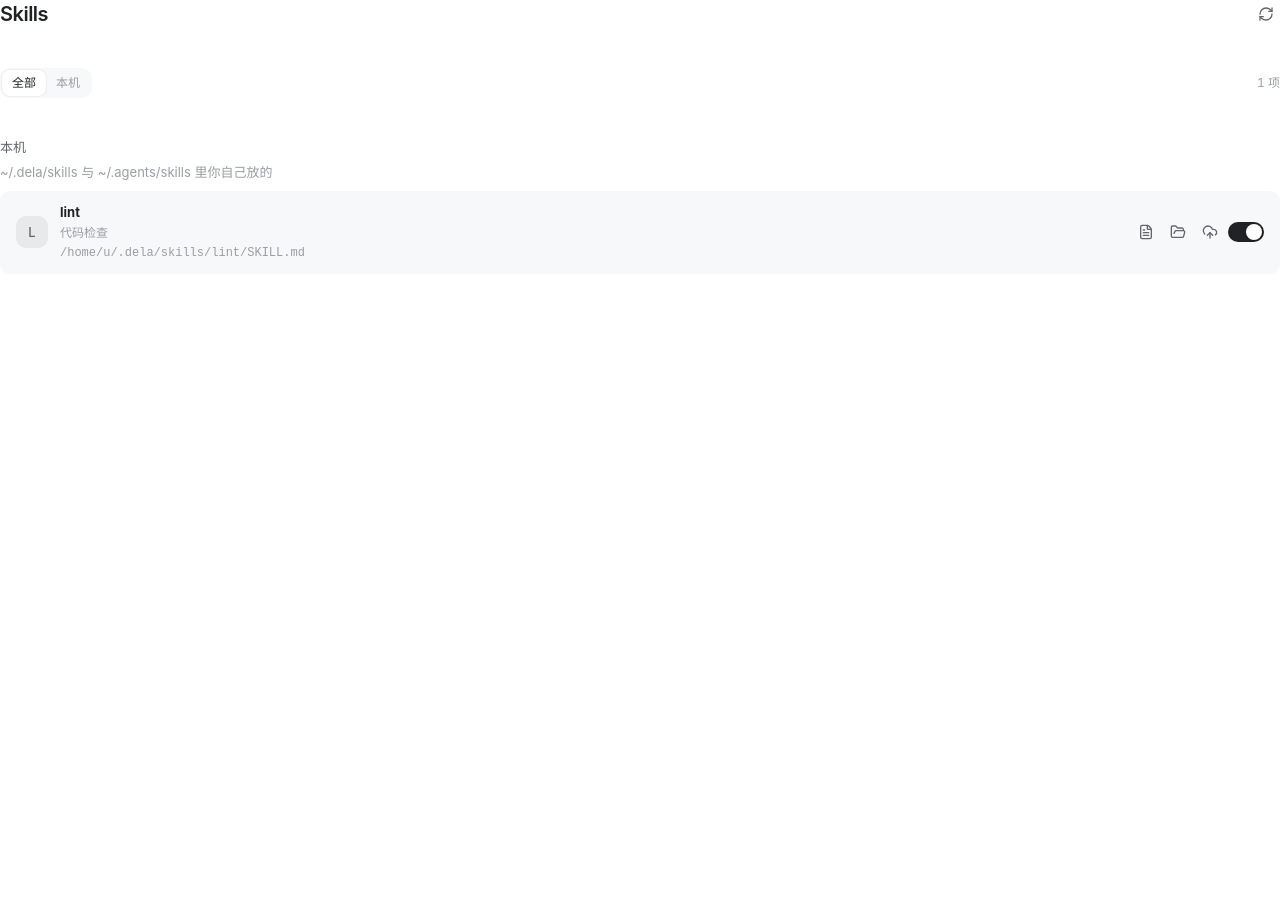
Test: asks for overwrite when the remote skill exists
Click the button named "上传 lint 到远端项目". click: [1210, 232]
box: [1196,218,1224,246]
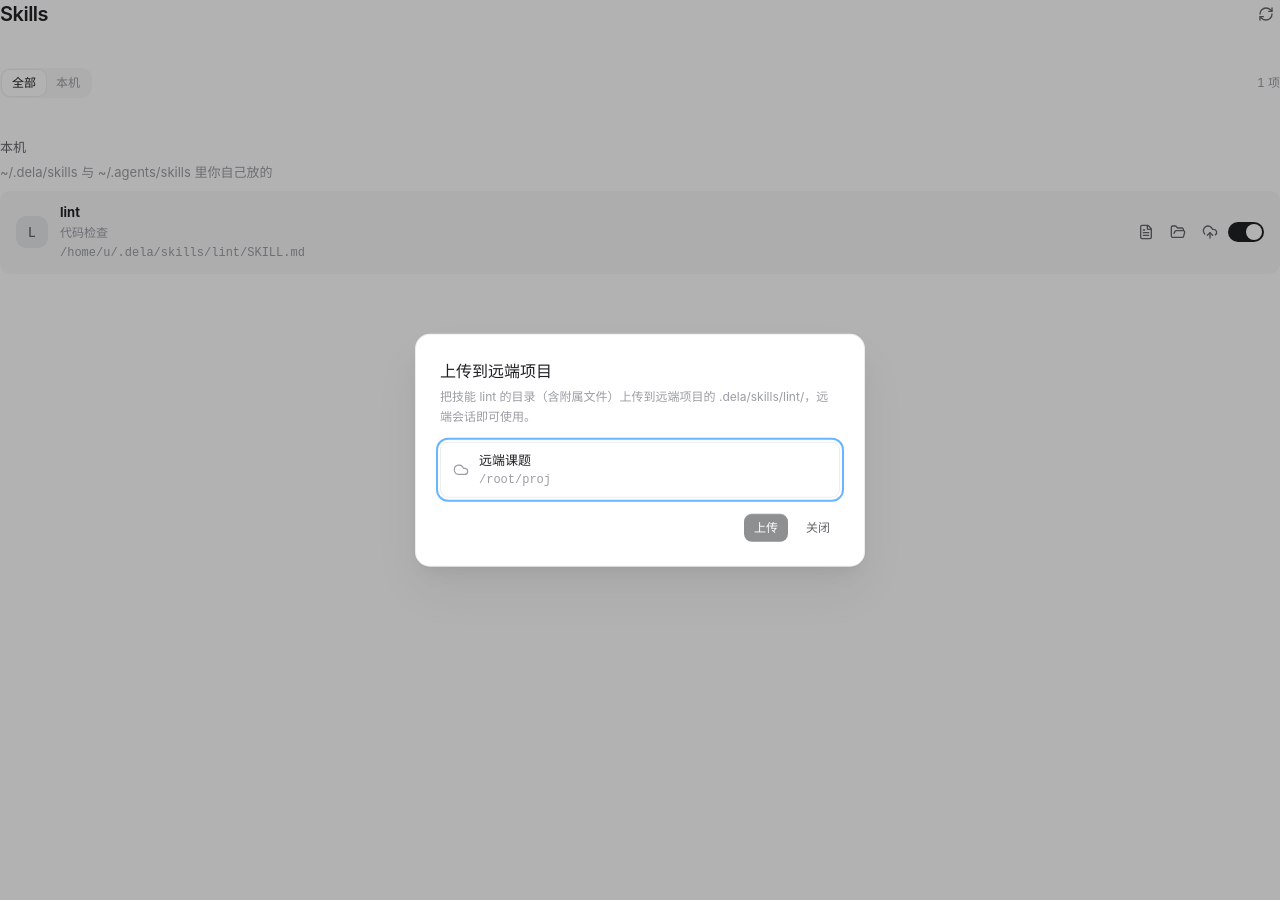
Click the button "远端课题 /root/proj". click: [505, 460]
box: [440,442,840,497]
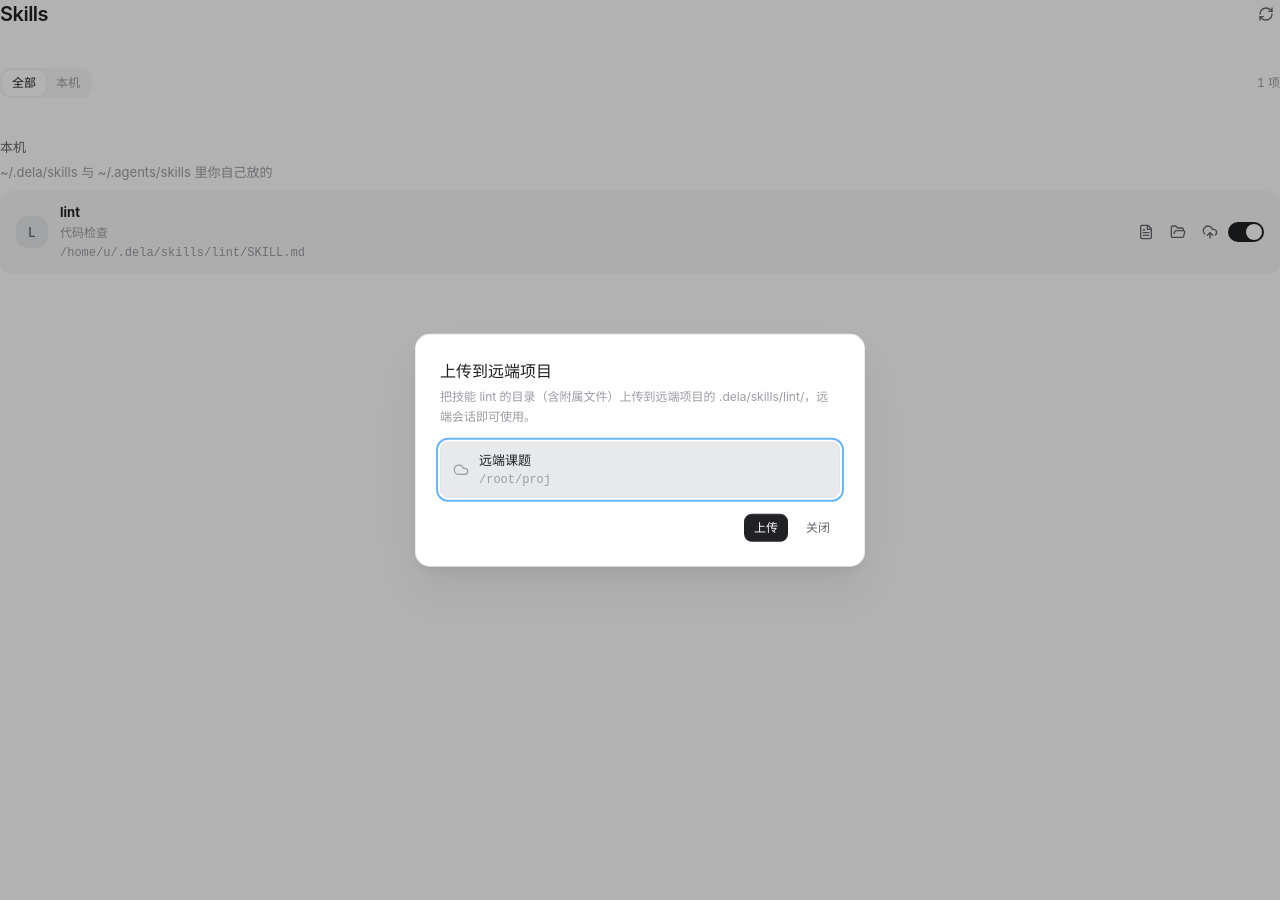
Click the button "上传". click: [766, 527]
box: [744,513,788,541]
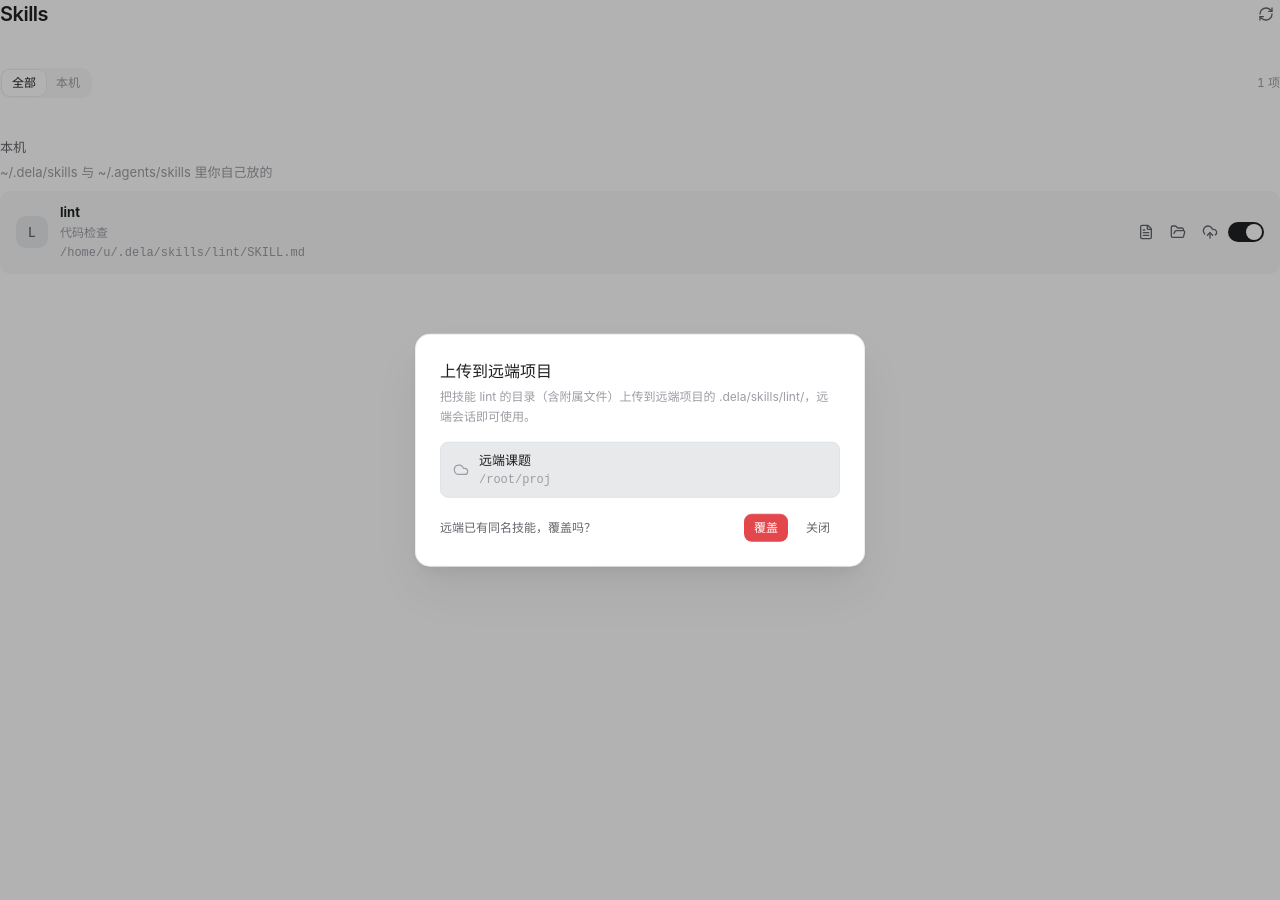
Result: the text "远端已有同名技能，覆盖吗？" is shown at [440,518,596,536]
Click the button "覆盖". click: [766, 527]
box: [744,513,788,541]
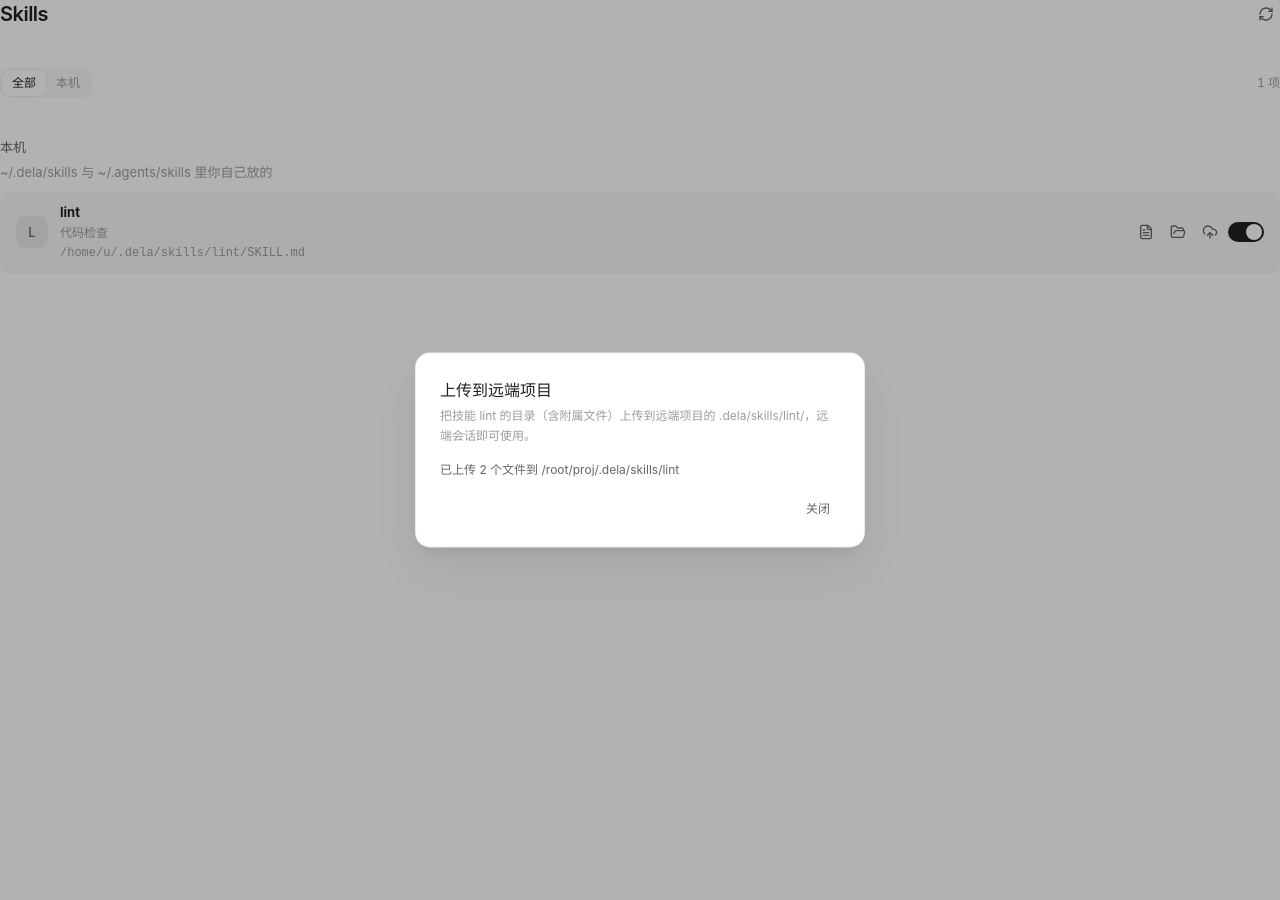
Result: the text "/root/proj/.dela/skills/lint" is shown at [542,462,679,476]
